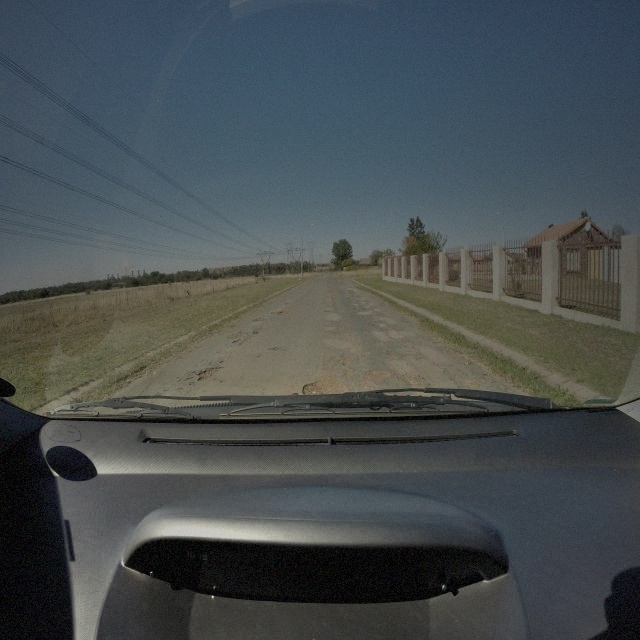pothole: (299, 374, 354, 397), (194, 363, 223, 383), (365, 367, 390, 383), (400, 373, 426, 388), (226, 331, 251, 344), (338, 355, 353, 367), (270, 342, 286, 352), (252, 314, 265, 321), (271, 309, 286, 314)
